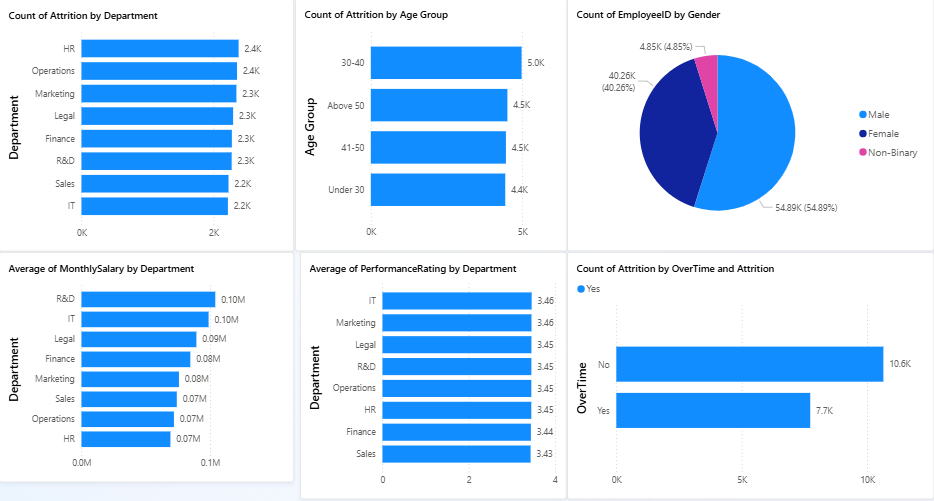

The dashboard page shown, as its layout file describes it:
{"tool":"powerbi","page":{"name":"Page 1","canvas":[1280,720],"ordinal":0},"visuals":[{"type":"clusteredBarChart","fields":{"Category":["hr_dataset_100k.Department"],"Y":["CountNonNull(hr_dataset_100k.Attrition)"]},"box":[10,16.2,285,343.8],"z":0},{"type":"clusteredBarChart","fields":{"Category":["hr_dataset_100k.Department"],"Y":["Avg(hr_dataset_100k.MonthlySalary)"]},"box":[10,390,401.2,283.8],"z":1},{"type":"clusteredBarChart","fields":{"Category":["hr_dataset_100k.Age Group"],"Y":["CountNonNull(hr_dataset_100k.Attrition)"]},"box":[411.3,15.9,306.3,344.1],"z":2},{"type":"clusteredBarChart","fields":{"Category":["hr_dataset_100k.Department"],"Y":["Avg(hr_dataset_100k.PerformanceRating)"]},"box":[411.2,390,341.2,306.2],"z":3},{"type":"pieChart","fields":{"Category":["hr_dataset_100k.Gender"],"Y":["CountNonNull(hr_dataset_100k.EmployeeID)"]},"box":[752.9,15.9,499.1,312.4],"z":4},{"type":"clusteredBarChart","fields":{"Category":["hr_dataset_100k.OverTime"],"Y":["CountNonNull(hr_dataset_100k.Attrition)"],"Series":["hr_dataset_100k.Attrition"]},"box":[781,390.5,472.3,305.1],"z":5}]}

Visuals, with their boxes on the page's 1280x720 design canvas (x1, y1, x2, y2). These are canvas units, not pixel positions in the 934x501 screenshot, which may show the page scaled, cropped or inside an application window:
clusteredBarChart - hr_dataset_100k.Department x CountNonNull(hr_dataset_100k.Attrition): x1=10, y1=16, x2=295, y2=360
clusteredBarChart - hr_dataset_100k.Department x Avg(hr_dataset_100k.MonthlySalary): x1=10, y1=390, x2=411, y2=674
clusteredBarChart - hr_dataset_100k.Age Group x CountNonNull(hr_dataset_100k.Attrition): x1=411, y1=16, x2=718, y2=360
clusteredBarChart - hr_dataset_100k.Department x Avg(hr_dataset_100k.PerformanceRating): x1=411, y1=390, x2=752, y2=696
pieChart - hr_dataset_100k.Gender x CountNonNull(hr_dataset_100k.EmployeeID): x1=753, y1=16, x2=1252, y2=328
clusteredBarChart - hr_dataset_100k.OverTime x CountNonNull(hr_dataset_100k.Attrition): x1=781, y1=390, x2=1253, y2=696
